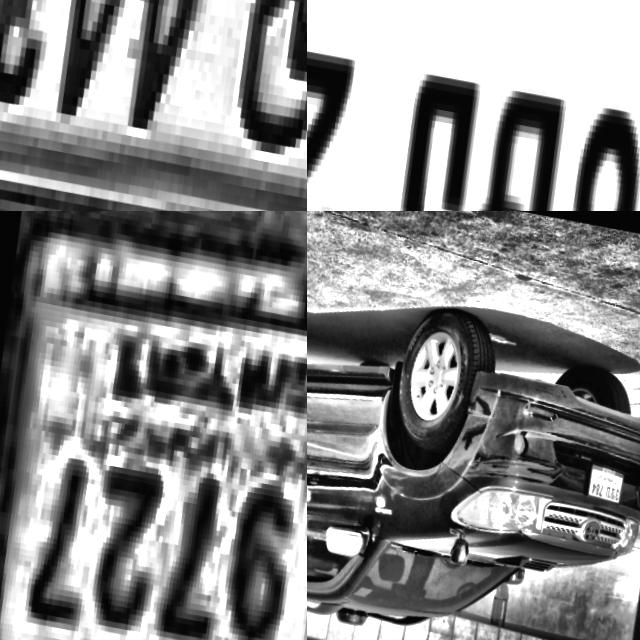license-plate: (0, 211, 307, 640), (307, 0, 640, 211), (0, 0, 307, 211), (577, 455, 625, 504)
